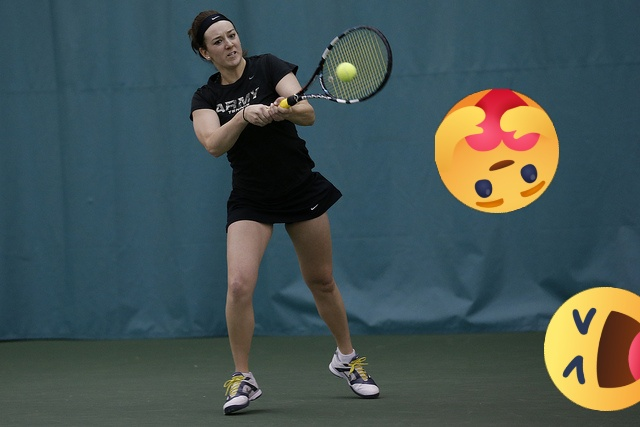care: (435, 89, 559, 213)
haha: (544, 287, 640, 411)
